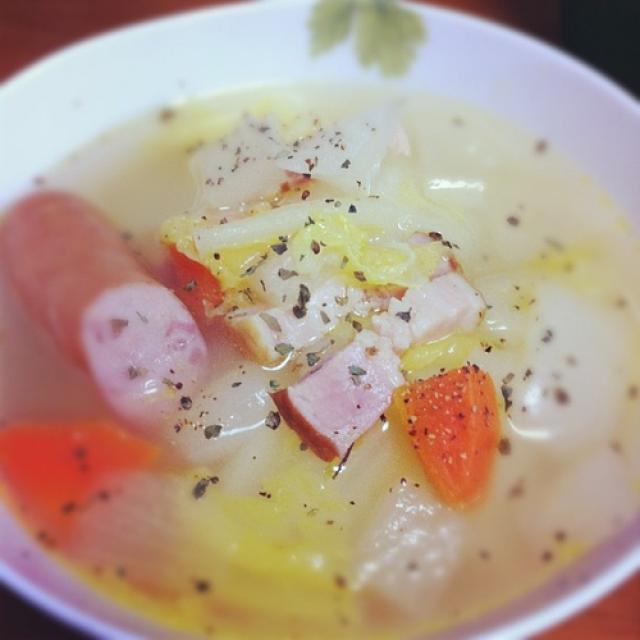汤锅炖物: (41, 45, 608, 626)
